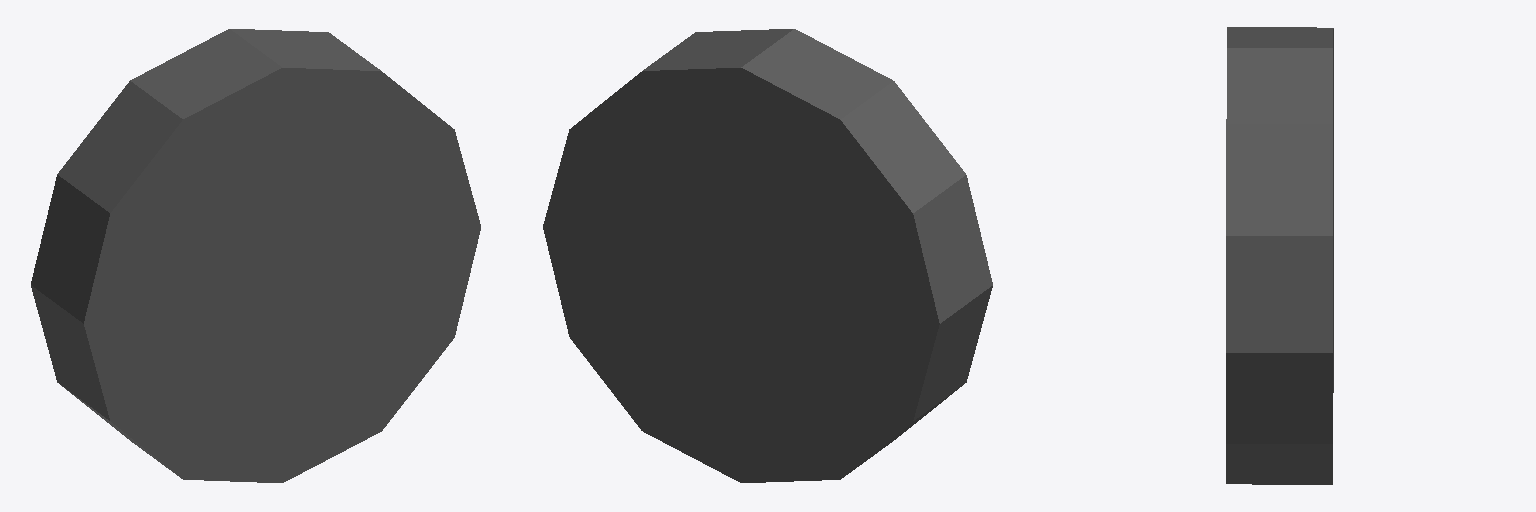
Rendered from 100Target.obj.
3 renders of one model, left to right at view 1: azimuth 30°, elevation 25°; view 2: azimuth 150°, elevation 25°; view 3: azimuth 270°, elevation 25°, orthographic.
Visible parts, largest first — view 1: MicroBumper_Hit_Untitled.051; view 2: MicroBumper_Hit_Untitled.051; view 3: MicroBumper_Hit_Untitled.051.
Boxes of the visible parts, x1=… form: MicroBumper_Hit_Untitled.051: x1=31, y1=29, x2=480, y2=482; MicroBumper_Hit_Untitled.051: x1=543, y1=29, x2=992, y2=482; MicroBumper_Hit_Untitled.051: x1=1226, y1=27, x2=1333, y2=484.
Size of the model in its own units: 0.0345 by 0.0345 by 0.0081.